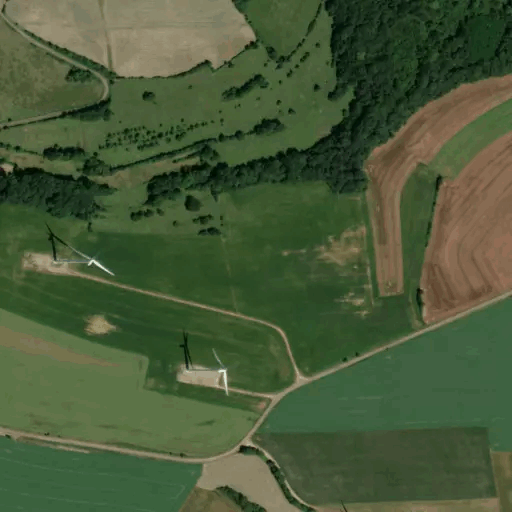wt: (170, 324, 237, 397), (40, 219, 118, 279)
